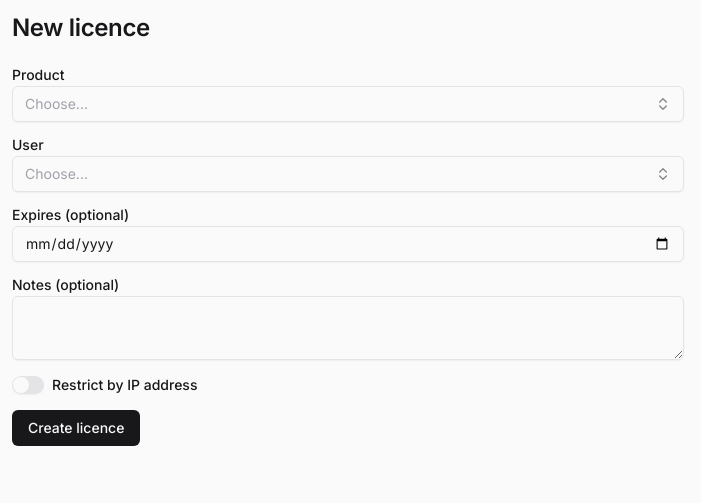
Scenario: NewLicencePage › shows a validation error when submitting without a product
Click the button "Create licence" at (76, 428), box [12,410,140,446]
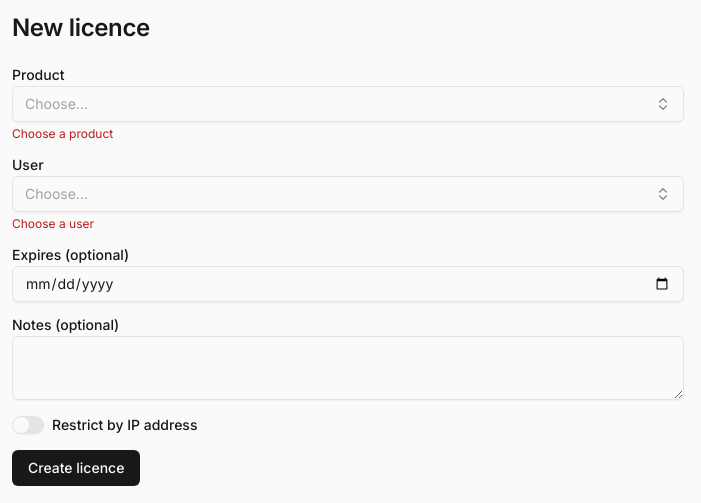
Expected: the text "Choose a product" is shown, [12,126,113,141]
